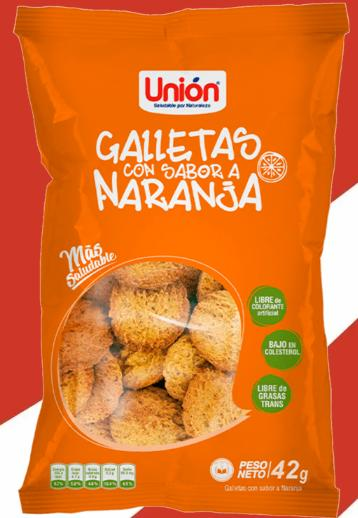brand: (129, 69, 237, 118)
net_weight: (271, 449, 315, 484)
product_name: (92, 126, 291, 221)
